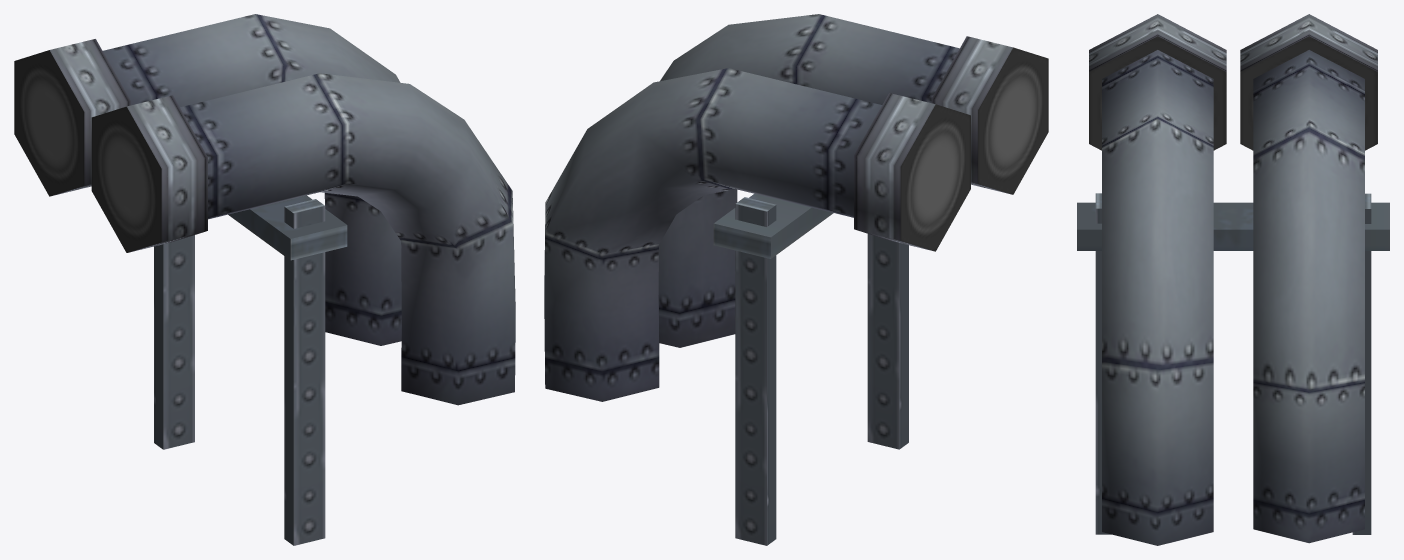
File: Pipe1D.fbx
3 renders of one model, left to right at view 1: azimuth 30°, elevation 25°; view 2: azimuth 150°, elevation 25°; view 3: azimuth 270°, elevation 25°, orthographic. The views are drawn at different scales.
Parts seen in each view (by area): view 1: polySurface1618; view 2: polySurface1618; view 3: polySurface1618.
Part boxes in pixels (<box>): polySurface1618: <box>14,14,515,545</box>; polySurface1618: <box>544,14,1048,545</box>; polySurface1618: <box>1077,14,1389,545</box>.
Size of the model in its own units: 4.31 by 4.75 by 3.06.
